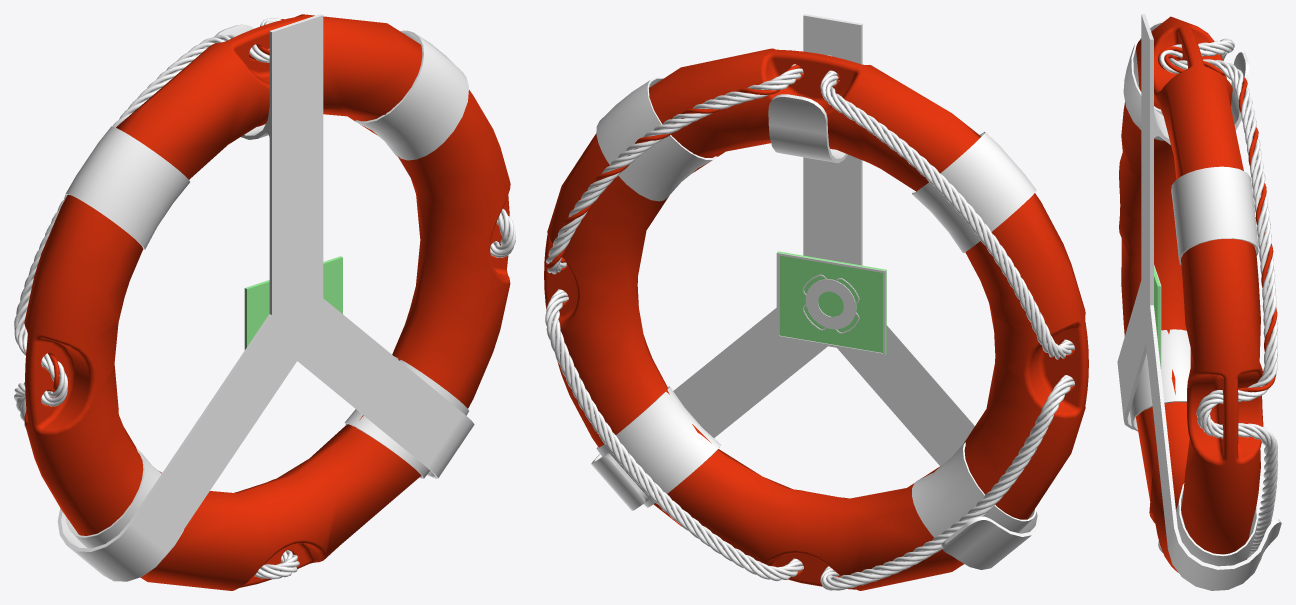
3 views of the same model, side by side, from view 1: azimuth 30°, elevation 25°; view 2: azimuth 150°, elevation 25°; view 3: azimuth 270°, elevation 25° (orthographic). The views are drawn at different scales.
Visible parts, largest first — view 1: NAUO28; view 2: NAUO28; view 3: NAUO28.
Part boxes in pixels (x1,y1,x2,y2): NAUO28: (14, 14, 515, 590); NAUO28: (544, 14, 1088, 590); NAUO28: (1117, 14, 1281, 590).
Size of the model in its own units: 0.7431 by 0.7744 by 0.2147.
